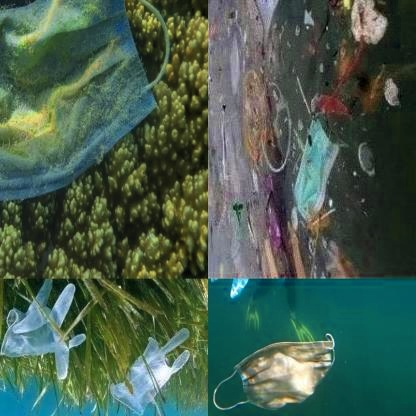Mask: (0, 0, 169, 211), (288, 114, 343, 223)
glove: (208, 324, 345, 416), (0, 279, 86, 381), (108, 324, 190, 415)
